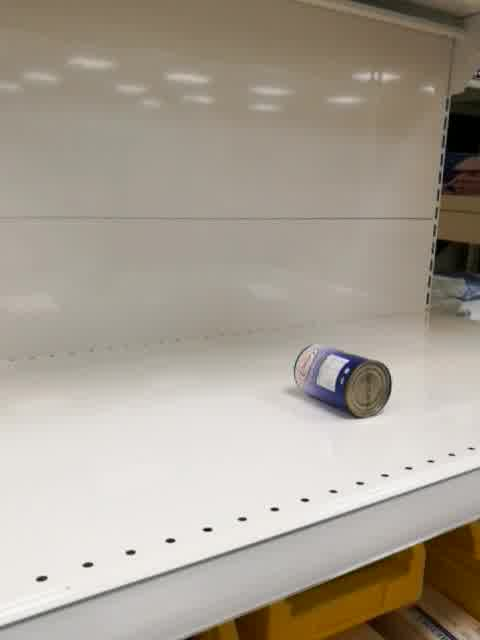sardine: (292, 343, 392, 420)
